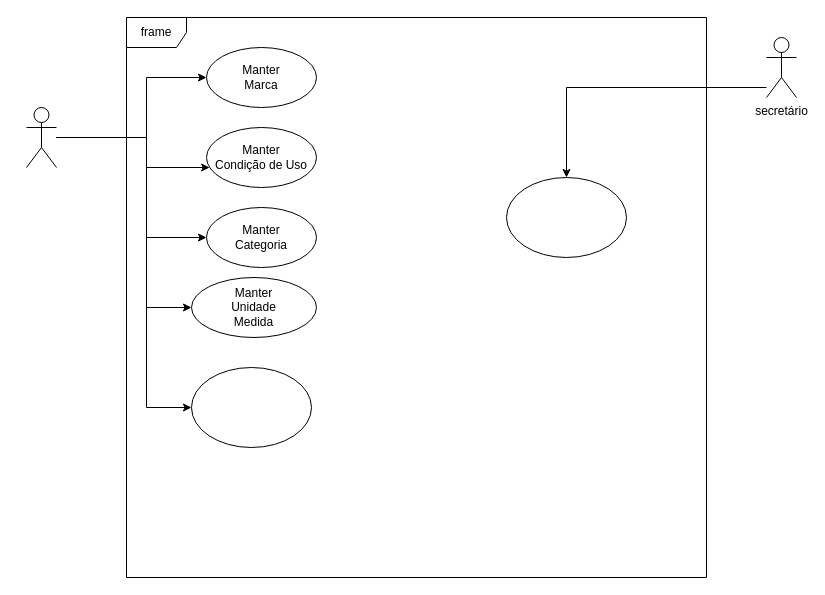
The diagram is 825 pixels wide and 595 high, and some of its shapes have lost their labels. The shapes that lost their labels are listed below. From the top down, each one's centre as x and y in pixels, then its label:
At point 41,137: "operador".
At point 566,217: "Autorizar Cautela".
At point 251,407: "Manter Modelo".
